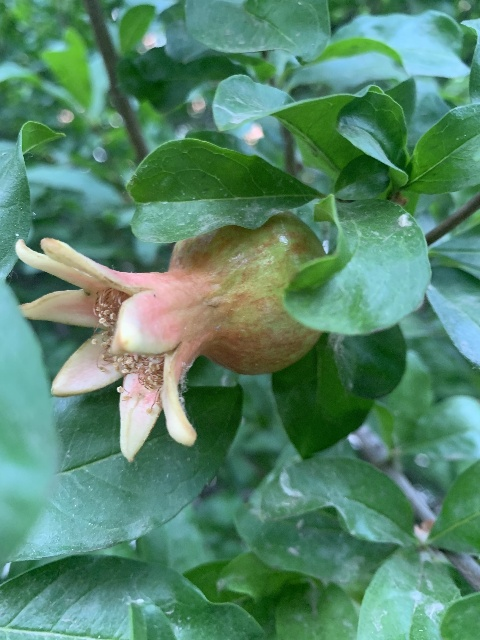early-fruit: (14, 210, 326, 463)
